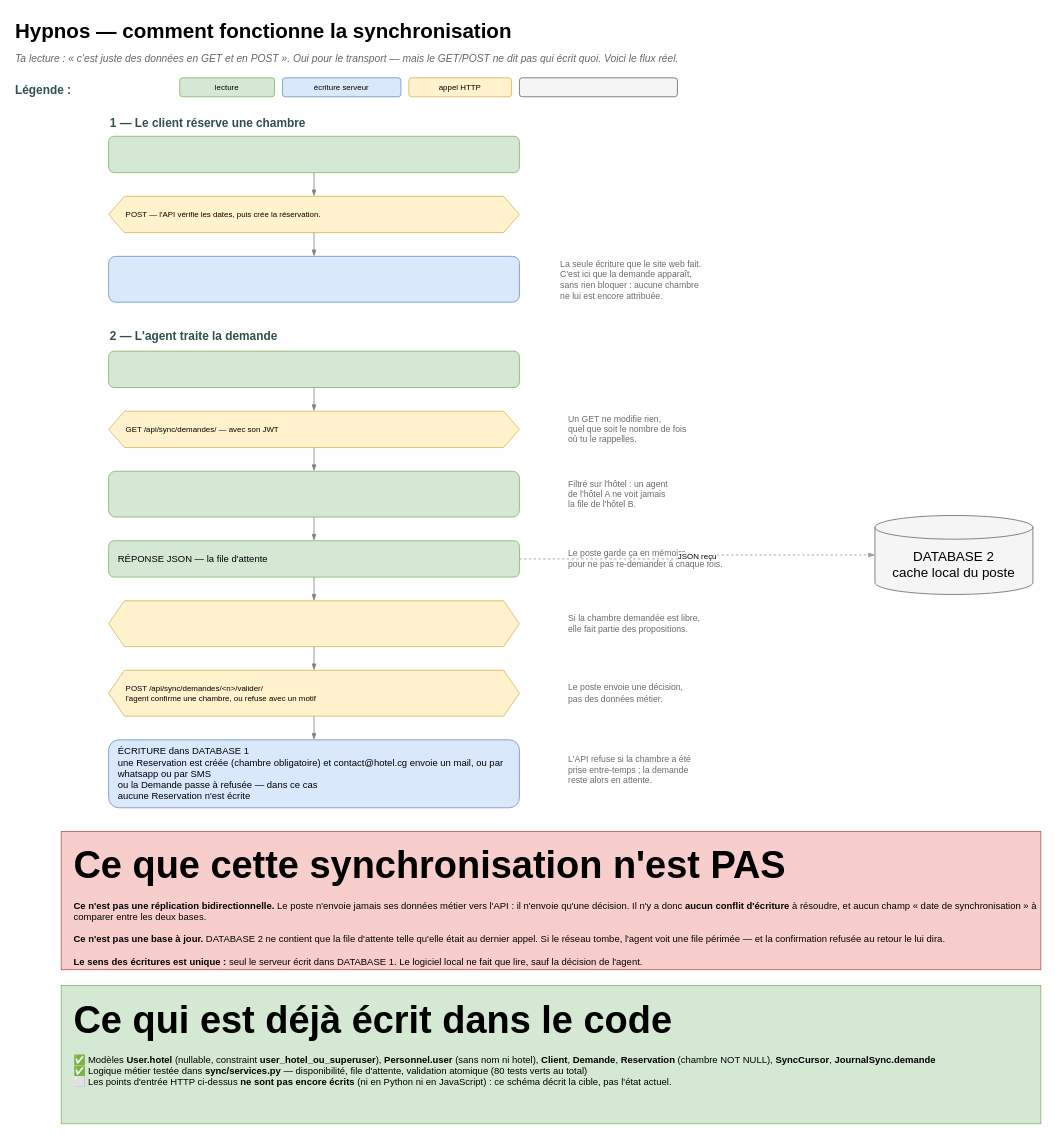
This 1055x1138 diagram has some shape labels left out. The box of each missing label's shape, as (x1, y1, x2, y2) in pixels:
base locale du poste: (519, 77, 677, 97)
GET /api/sync/demandes/<n>/propositions/ les 3 chambres libres les moins chères: (108, 600, 519, 647)
L'agent ouvre le logiciel sur son poste.: (108, 350, 519, 387)
l'API lit la file : statut = en_attente, et l'hôtel du compte connecté: (108, 470, 519, 517)
Le client choisit une chambre sur le site web.: (108, 135, 519, 173)
ÉCRITURE dans DATABASE 1 une Demande est créée, sans chambre attribuée: (108, 256, 519, 302)
